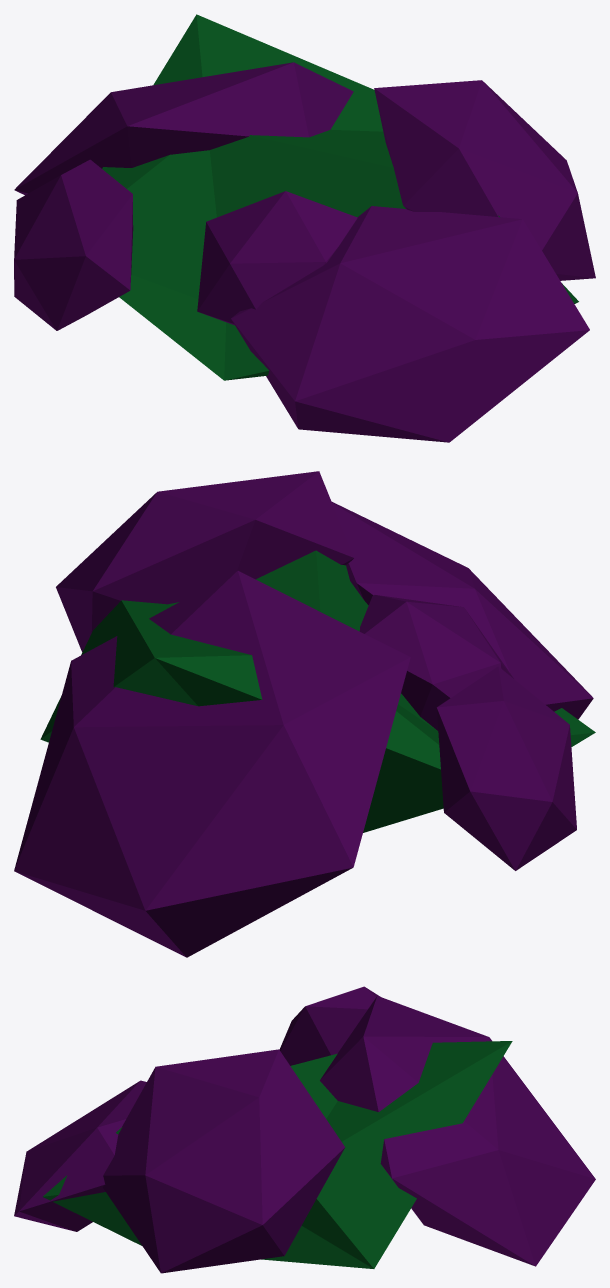
The model's file is TT_British_Bush.fbx.
3 renders of one model, top to bottom at view 1: azimuth 30°, elevation 25°; view 2: azimuth 150°, elevation 25°; view 3: azimuth 270°, elevation 25°, orthographic. The views are drawn at different scales.
Visible parts, largest first — view 1: Bush; view 2: Bush; view 3: Bush.
Part boxes in pixels (<box>): Bush: <box>14,14,595,442</box>; Bush: <box>14,471,595,957</box>; Bush: <box>14,986,595,1273</box>.
Size of the model in its own units: 134 by 64.2 by 156.
